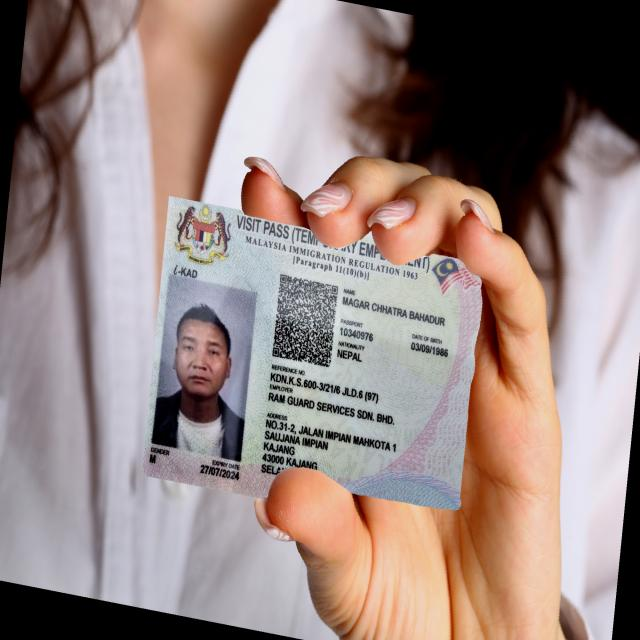ikad-temp: (142, 194, 484, 511)
